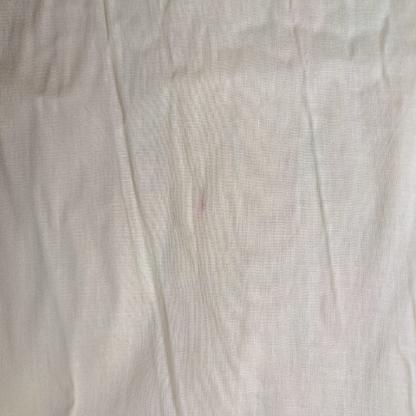spot: (199, 193, 207, 213)
